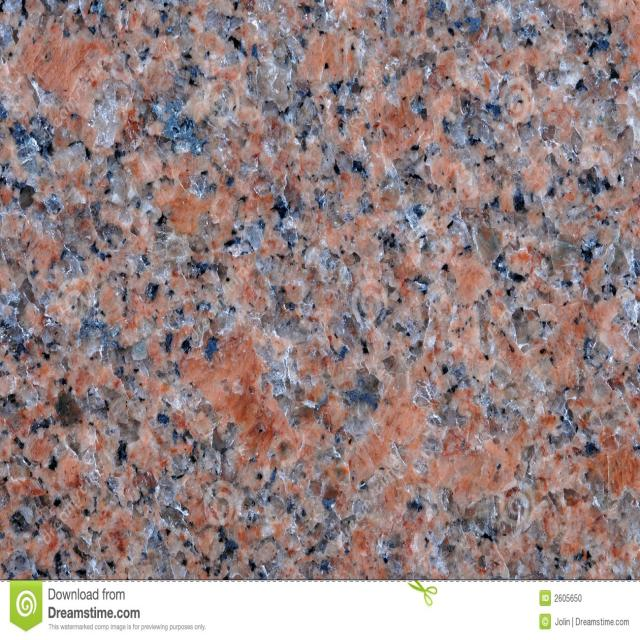Igneous: (2, 1, 640, 579)
